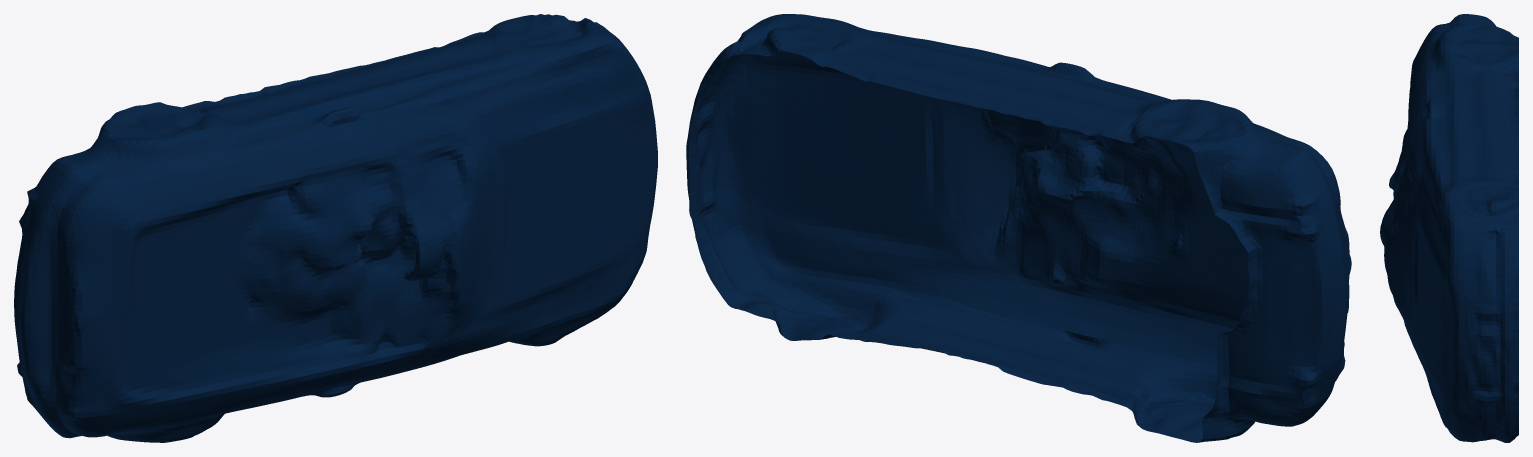
3 renders of one model, left to right at view 1: azimuth 30°, elevation 25°; view 2: azimuth 150°, elevation 25°; view 3: azimuth 270°, elevation 25°, orthographic. The views are drawn at different scales.
Parts seen in each view (by area): view 1: geometry_0; view 2: geometry_0; view 3: geometry_0.
Boxes of the visible parts, x1,y1,x2,y2 form: geometry_0: (14,14,657,442); geometry_0: (686,14,1351,442); geometry_0: (1380,14,1518,442).
Size of the model in its own units: 4.33 by 1.97 by 1.02.
